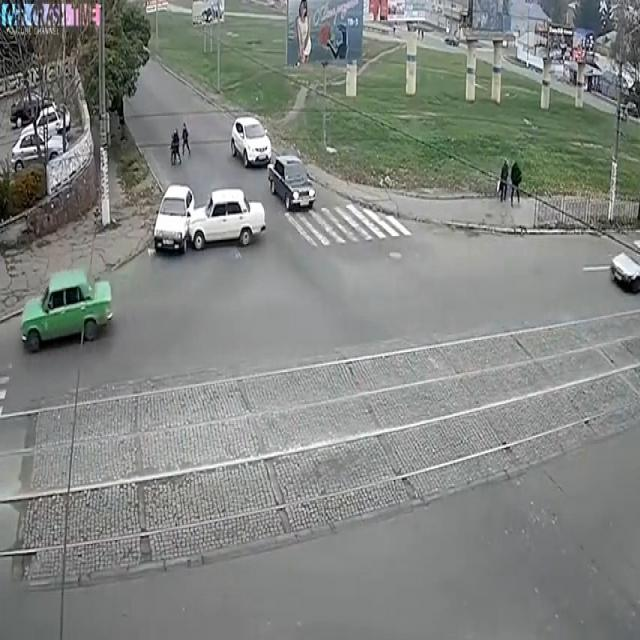Accident: (151, 164, 249, 260)
